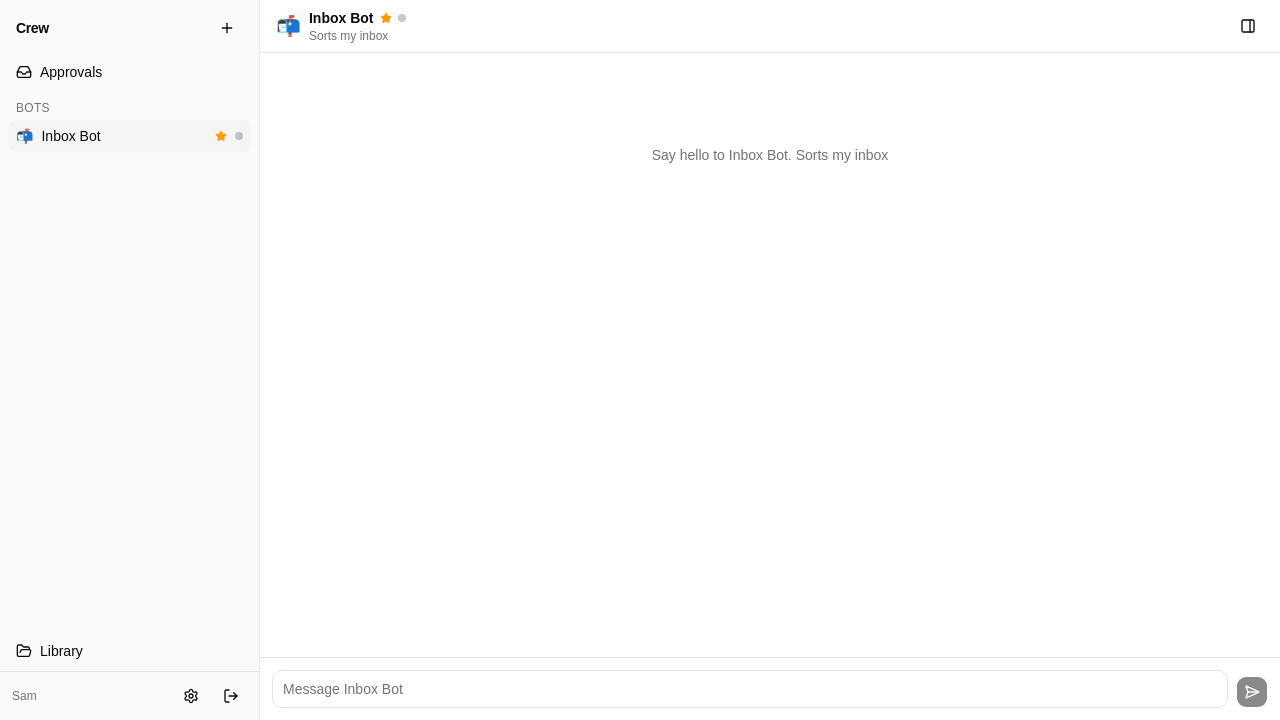
Test: the Screen tab starts a stopped computer and then shows the live screen
expect the element showing "Say hello to Inbox Bot. Sorts my inbox" is shown: met, box [652,147,888,163]
Click the button named "Toggle details".
click(1248, 26)  # box [1232,10,1264,42]
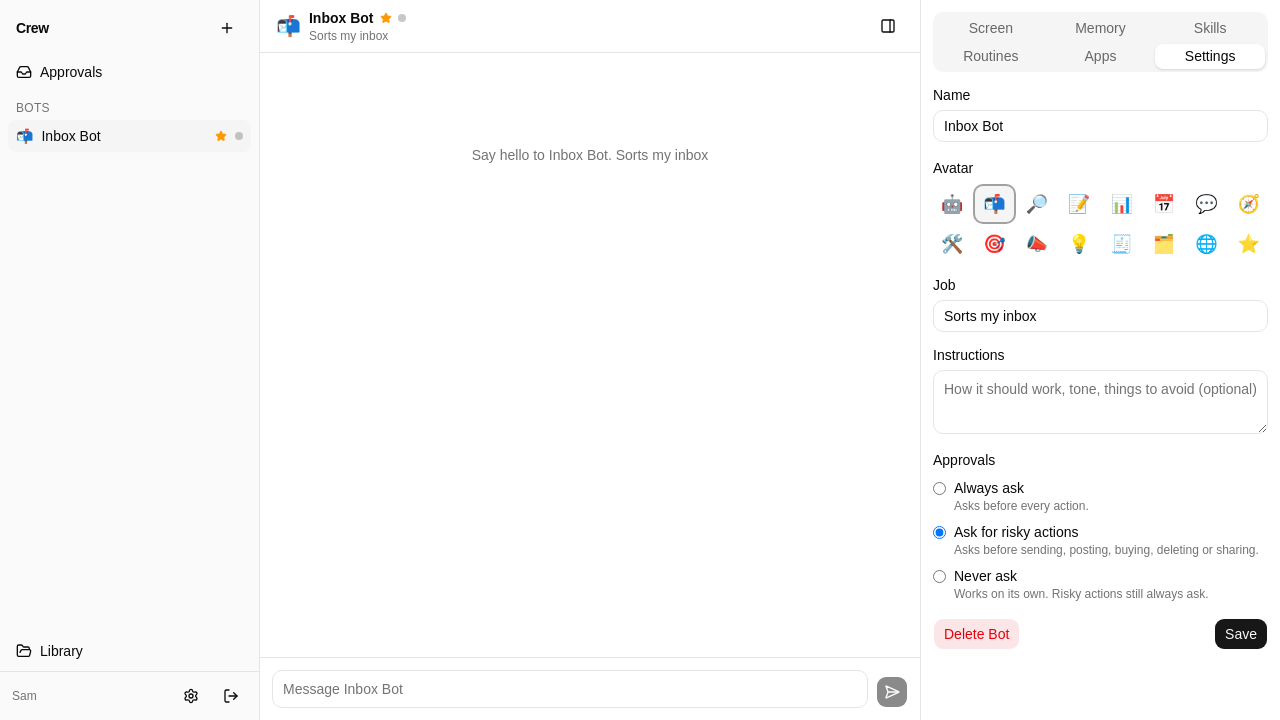
Click the tab "Screen".
click(991, 28)  # box [936,16,1046,40]
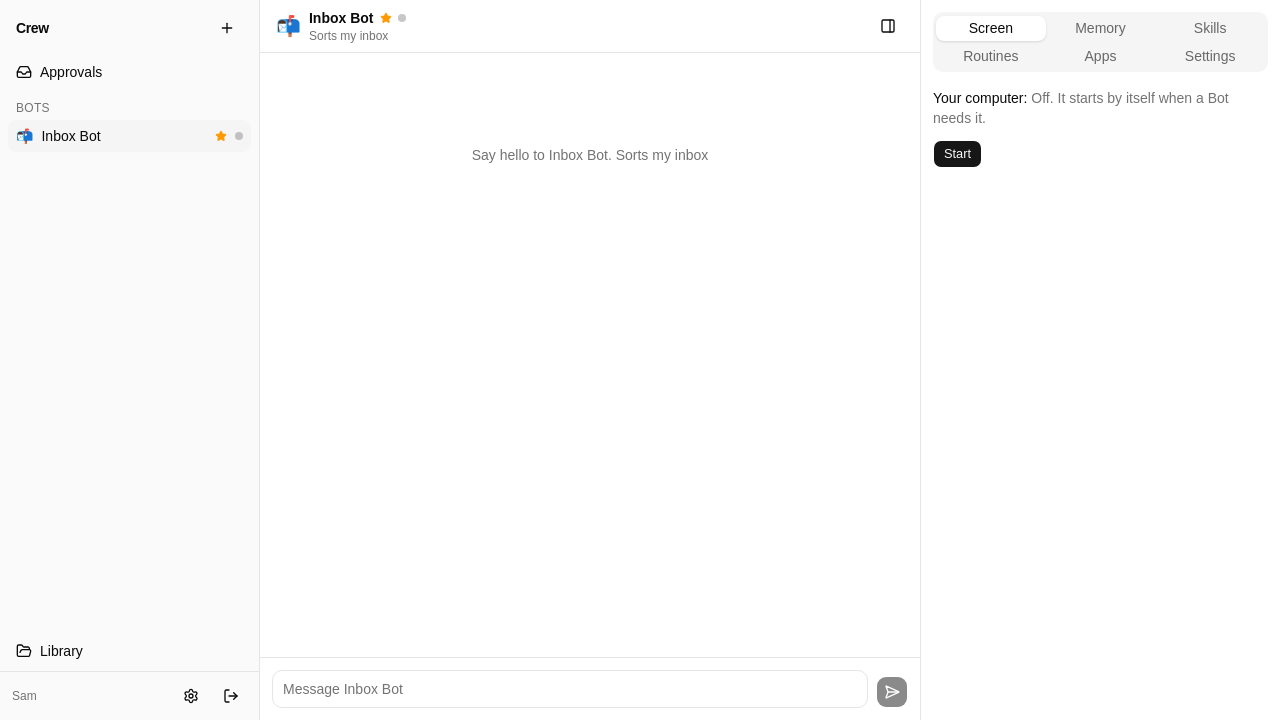
expect the text "Off. It starts by itself when a Bot needs it." is shown: met, box [933,90,1229,126]
Click the button "Start".
click(958, 154)  # box [933,140,982,168]
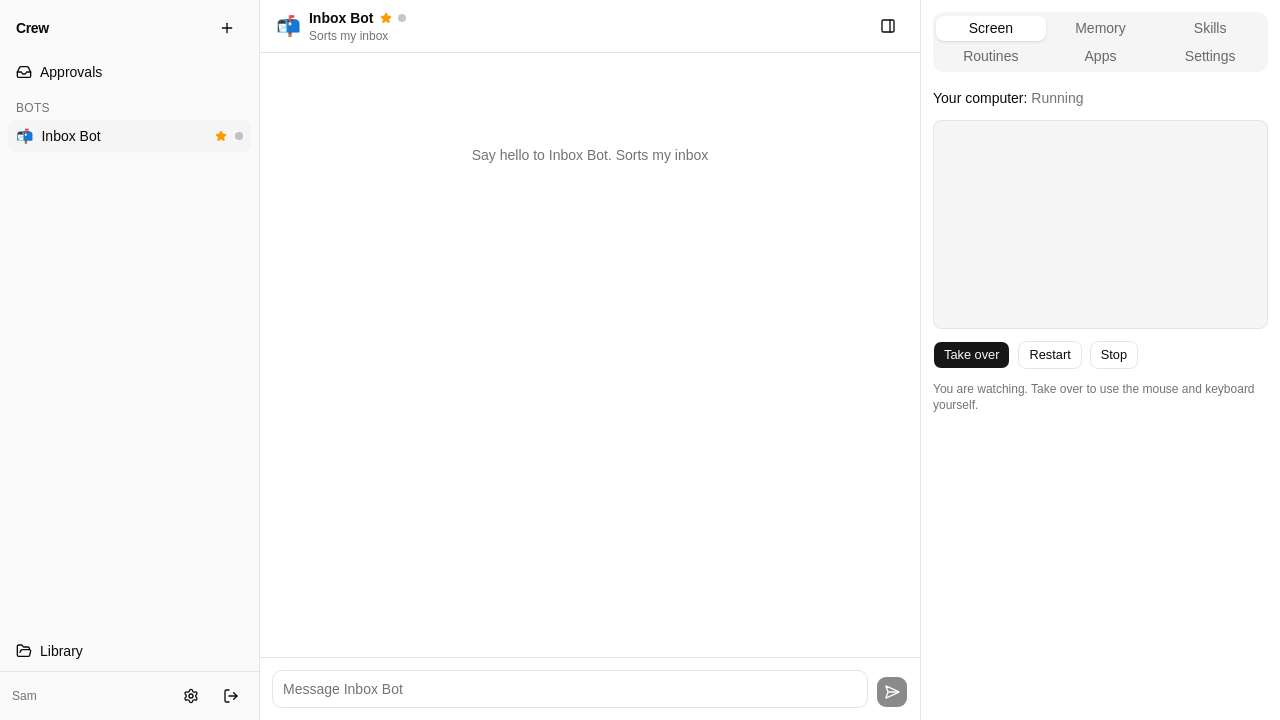
expect the element named "Live screen" is shown: met, box [933,120,1268,329]
